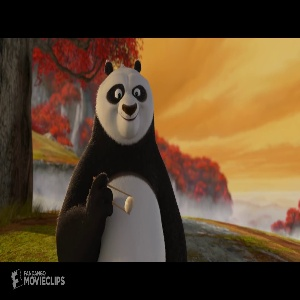po: (54, 56, 189, 261)
